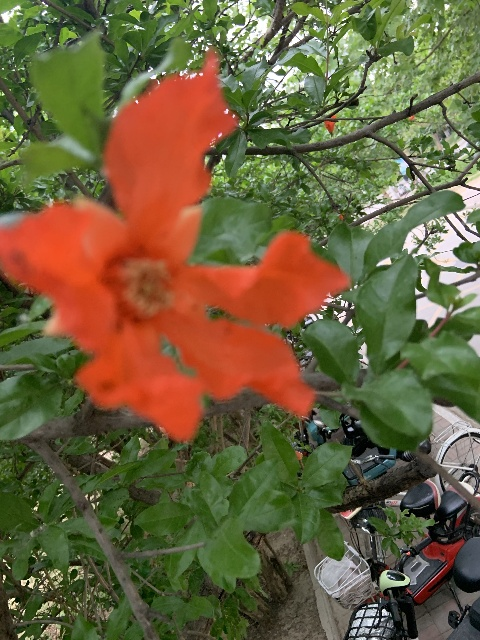bud: (294, 450, 302, 460)
flower: (0, 40, 351, 442), (323, 113, 336, 132)
